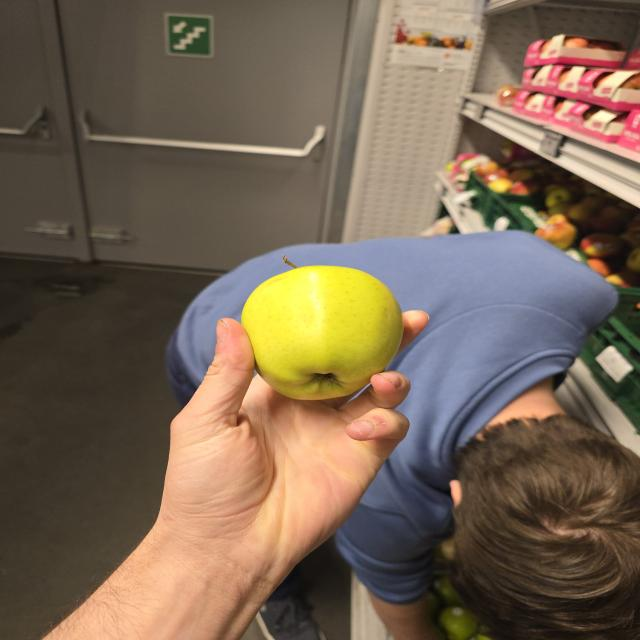Apple: (241, 266, 403, 400)
